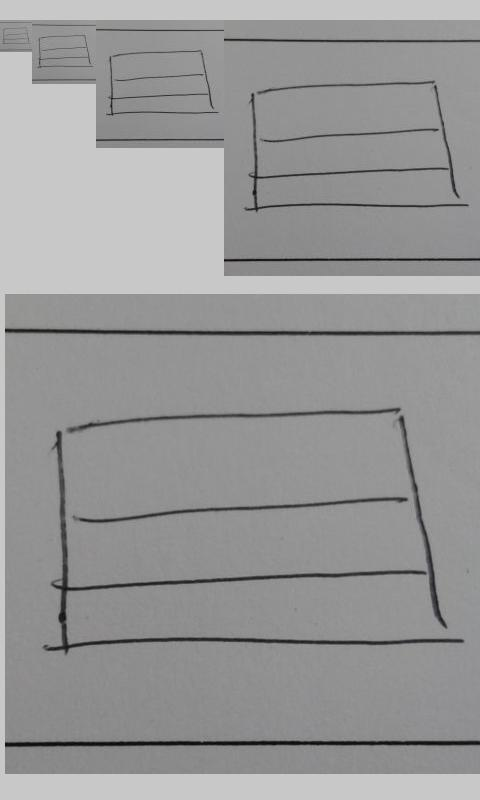list_view: (54, 405, 448, 653), (247, 79, 462, 214), (108, 49, 216, 116), (38, 34, 93, 68), (2, 26, 30, 45)
